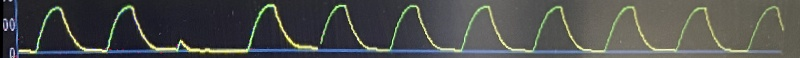normal_volume: (19, 0, 800, 58)
